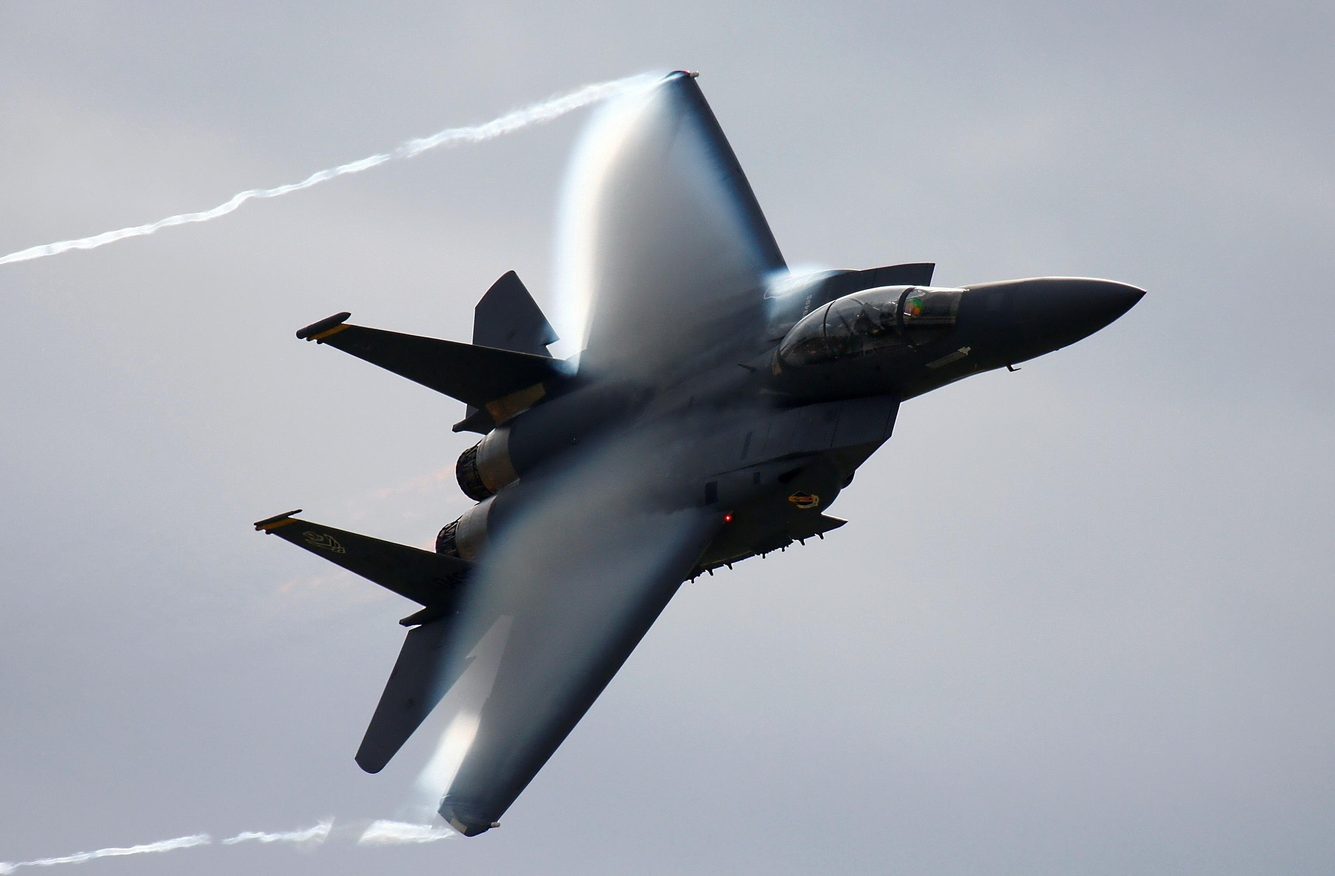aircraft: (247, 67, 1141, 839)
